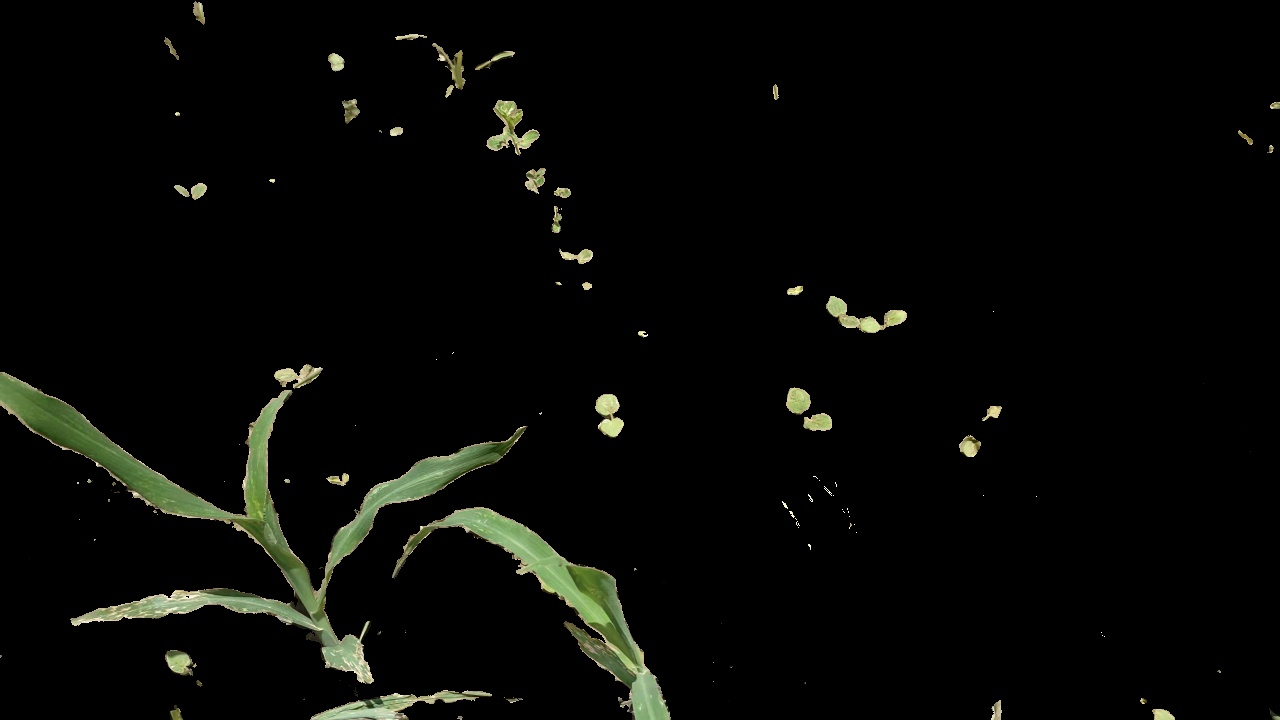crop: (1, 356, 415, 686), (342, 503, 672, 720)
weed: (815, 283, 925, 348), (955, 393, 1008, 474), (484, 99, 535, 158), (592, 387, 636, 454), (786, 387, 836, 439), (162, 169, 215, 211), (515, 161, 553, 192), (556, 244, 605, 265)
